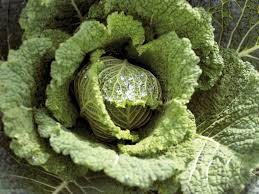cabbage: (78, 53, 170, 143)
